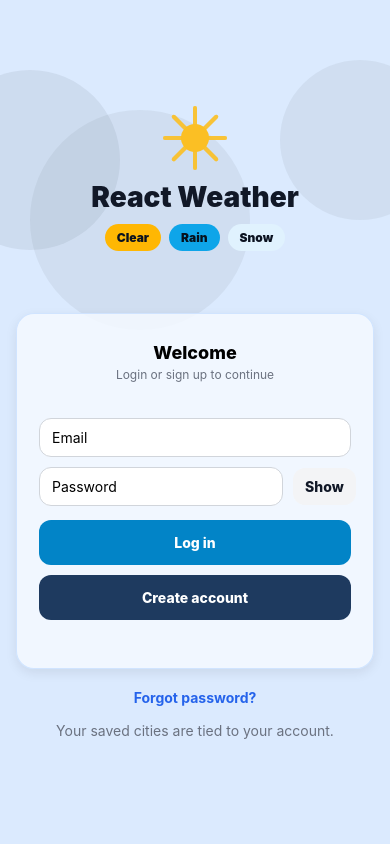
Test: LoginScreen › shows incorrect credentials error from Supabase
Type "test@example.com" into the field with placeholder "Email".
click(195, 437); type("test@example.com")  # box left=39, top=418, right=351, bottom=456
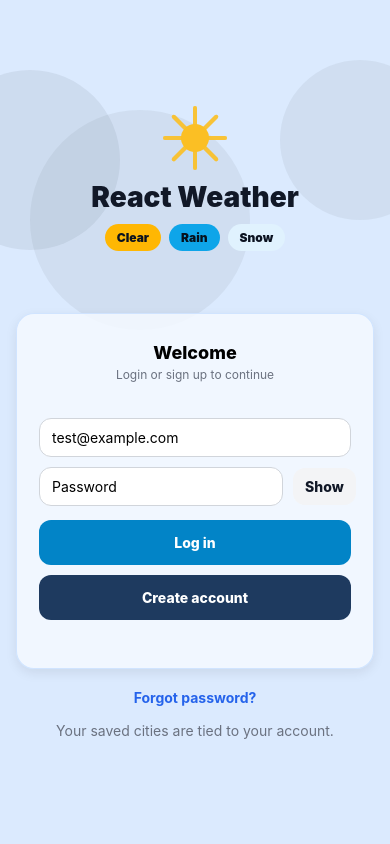
Type "123456" into the password field with placeholder "Password".
click(161, 486); type("123456")  # box left=39, top=466, right=283, bottom=506
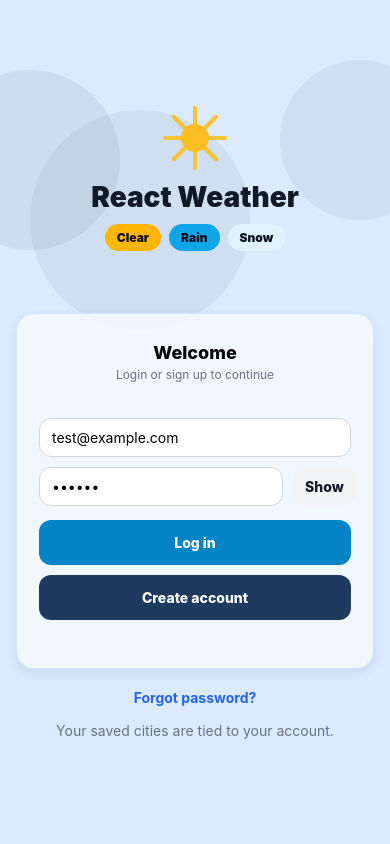
Click the text "Log in".
click(195, 542)  # box left=174, top=534, right=216, bottom=550
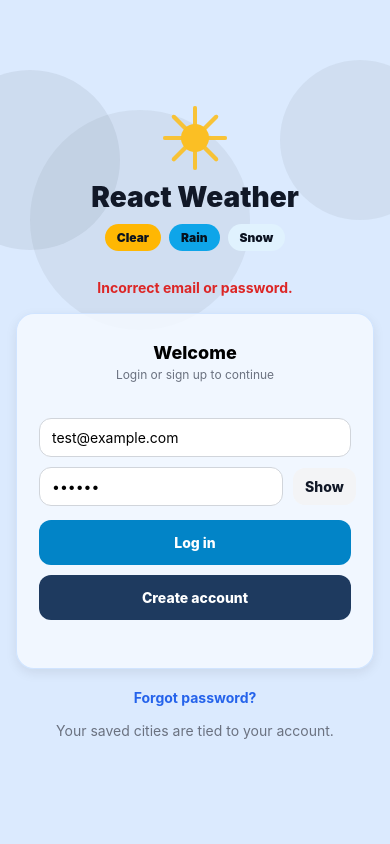
Check: the text "Incorrect email or password." is shown, box left=97, top=279, right=293, bottom=296
